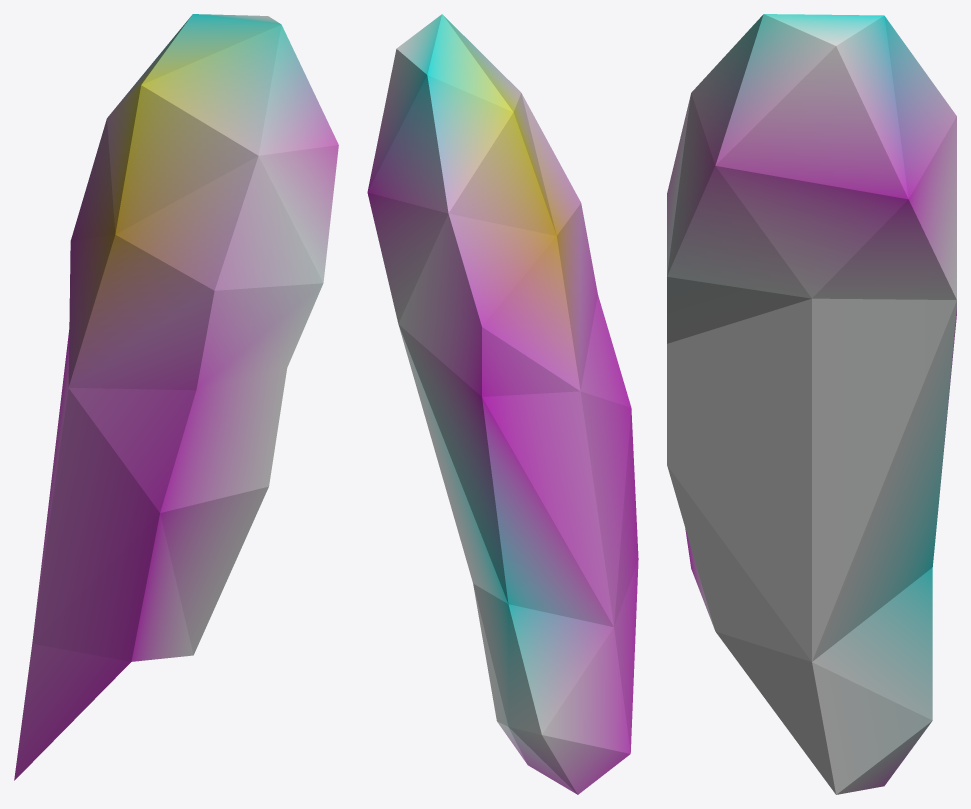
3 renders of one model, left to right at view 1: azimuth 30°, elevation 25°; view 2: azimuth 150°, elevation 25°; view 3: azimuth 270°, elevation 25°, orthographic. The views are drawn at different scales.
Parts seen in each view (by area): view 1: model_11B6; view 2: model_11B6; view 3: model_11B6.
Part boxes in pixels (x1=…): model_11B6: x1=14, y1=14, x2=338, y2=780; model_11B6: x1=367, y1=14, x2=638, y2=794; model_11B6: x1=667, y1=14, x2=956, y2=794.
Bounding box in the file's own units: 15 × 40 × 12.
